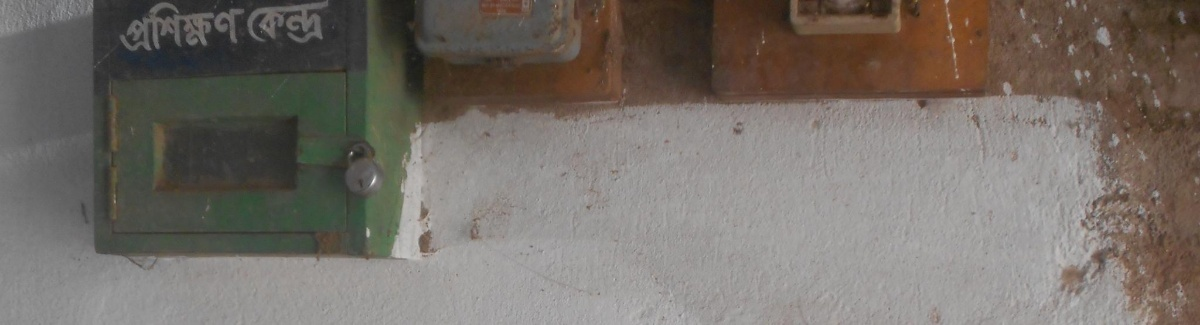text: (129, 2, 144, 53), (145, 2, 160, 53), (161, 2, 176, 53), (177, 2, 192, 53), (193, 2, 208, 53), (209, 2, 224, 53), (225, 2, 240, 53), (257, 1, 272, 44), (273, 1, 288, 44), (289, 1, 304, 44), (305, 1, 320, 44), (118, 2, 128, 53), (247, 1, 256, 44), (321, 1, 330, 44), (241, 2, 246, 53)
